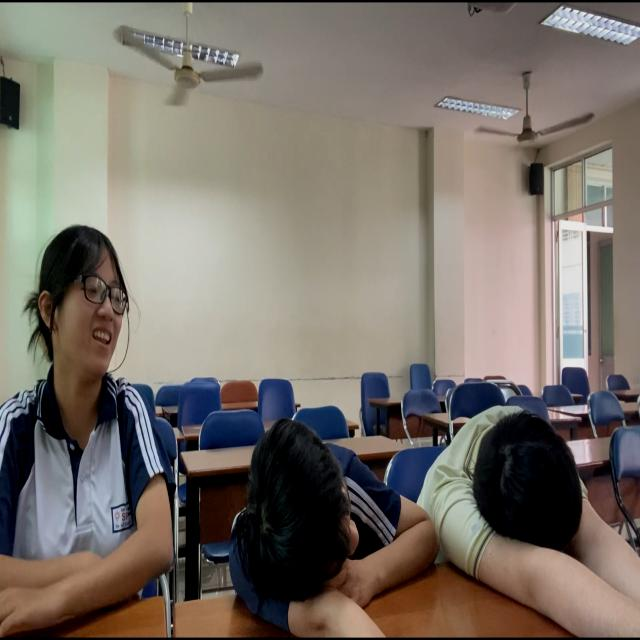sleep: (412, 398, 640, 639), (208, 413, 442, 638)
